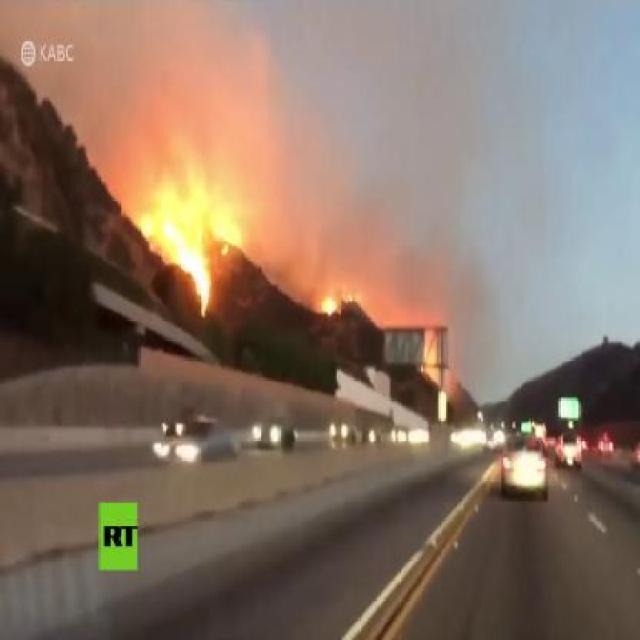Fire: (133, 176, 241, 324), (318, 287, 352, 315)
